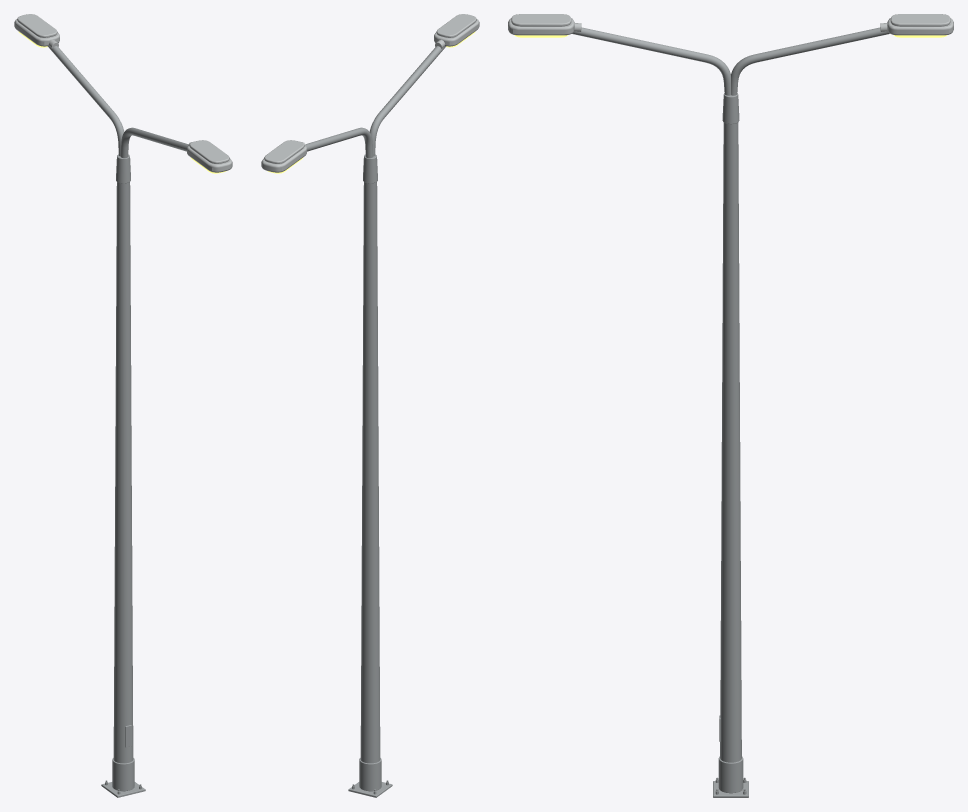
The model's file is shuto_light_pole.fbx.
3 views of the same model, side by side, from view 1: azimuth 30°, elevation 25°; view 2: azimuth 150°, elevation 25°; view 3: azimuth 270°, elevation 25° (orthographic). The views are drawn at different scales.
Parts seen in each view (by area): view 1: shuto_light_pole; view 2: shuto_light_pole; view 3: shuto_light_pole.
Part boxes in pixels (x1,y1,x2,y2): shuto_light_pole: (14, 14, 232, 797); shuto_light_pole: (261, 14, 479, 797); shuto_light_pole: (508, 14, 953, 797).
Size of the model in its own units: 0.42 by 9.97 by 5.22.
